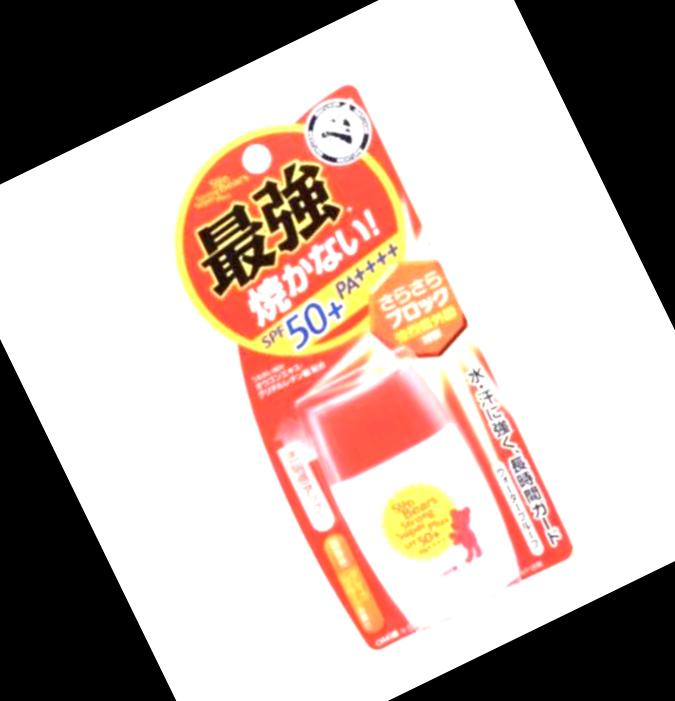cosmetic: (295, 351, 536, 645)
